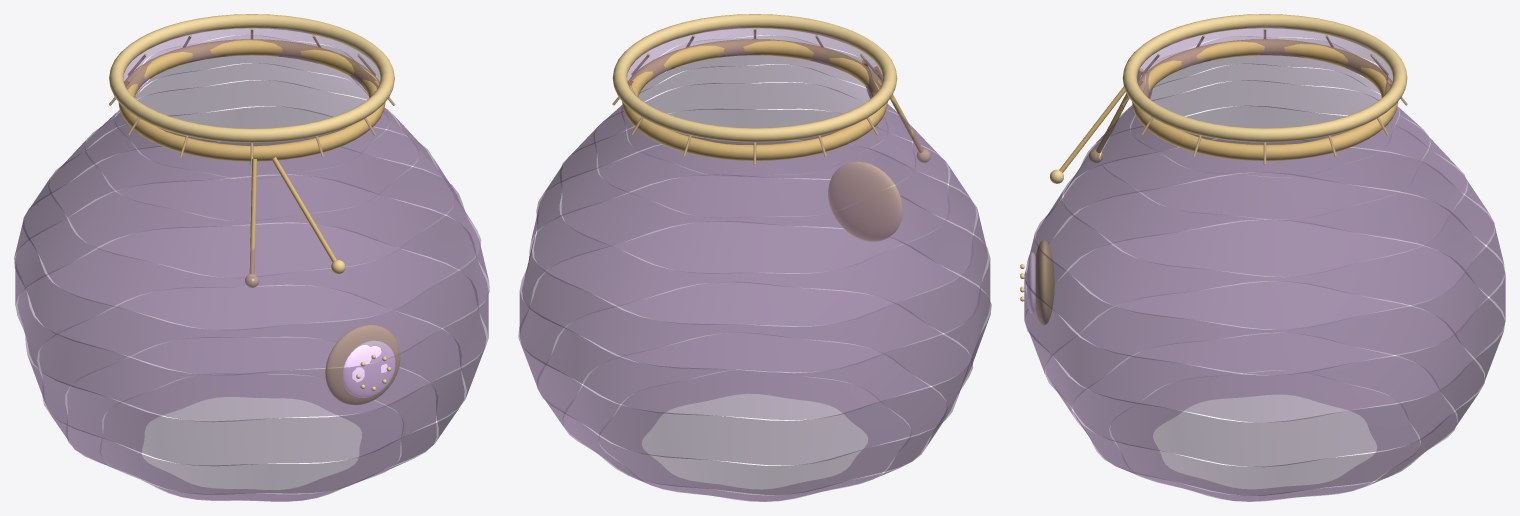
File: bag.glb
3 views of the same model, side by side, from view 1: azimuth 30°, elevation 25°; view 2: azimuth 150°, elevation 25°; view 3: azimuth 270°, elevation 25° (orthographic).
Parts seen in each view (by area): view 1: TranslucentCloth, GiltOpenMouth, Drawstring, SealBezel, SealEnamel, _MeshInstance3D_130, DrawstringTail; view 2: TranslucentCloth, GiltOpenMouth, Drawstring, SealBezel; view 3: TranslucentCloth, GiltOpenMouth, Drawstring, SealBezel, _MeshInstance3D_130, SealEnamel.
Part boxes in pixels (x1,y1,x2,y2): TranslucentCloth: (14, 27, 489, 501); GiltOpenMouth: (109, 14, 394, 142); Drawstring: (118, 39, 385, 161); SealBezel: (325, 325, 400, 405); SealEnamel: (342, 340, 395, 397); _MeshInstance3D_130: (271, 157, 336, 262); DrawstringTail: (249, 159, 256, 273); TranslucentCloth: (518, 27, 991, 501); GiltOpenMouth: (612, 14, 897, 142); Drawstring: (622, 39, 887, 160); SealBezel: (828, 161, 902, 241); TranslucentCloth: (1024, 26, 1505, 501); GiltOpenMouth: (1122, 14, 1407, 142); Drawstring: (1132, 39, 1397, 160); SealBezel: (1035, 240, 1054, 325); _MeshInstance3D_130: (1059, 86, 1125, 172); SealEnamel: (1025, 252, 1035, 313).
Size of the model in its own units: 0.7402 by 0.628 by 0.7466.
